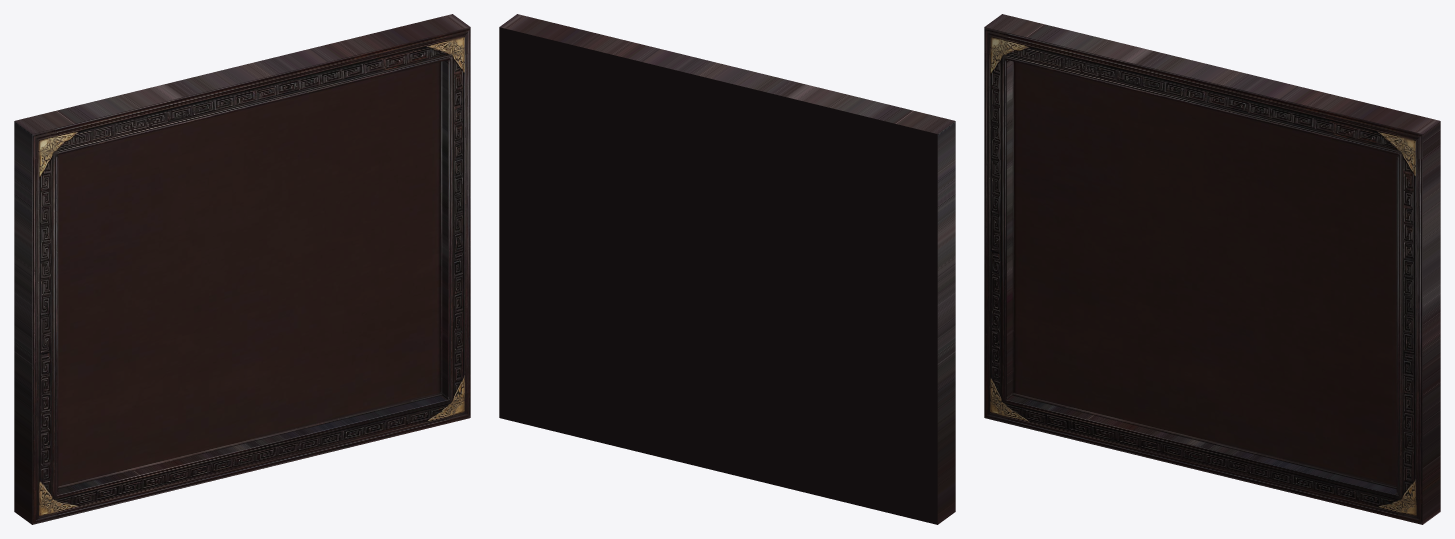
The model's file is panel_result.glb.
3 views of the same model, side by side, from view 1: azimuth 30°, elevation 25°; view 2: azimuth 150°, elevation 25°; view 3: azimuth 330°, elevation 25° (orthographic).
Visible parts, largest first — view 1: result; view 2: result; view 3: result.
Boxes of the visible parts, bbox=[...] form: result: bbox=[14, 14, 470, 524]; result: bbox=[499, 14, 955, 524]; result: bbox=[984, 14, 1440, 524].
Size of the model in its own units: 0.54 by 0.46 by 0.042.
1 material, 1 textured.
